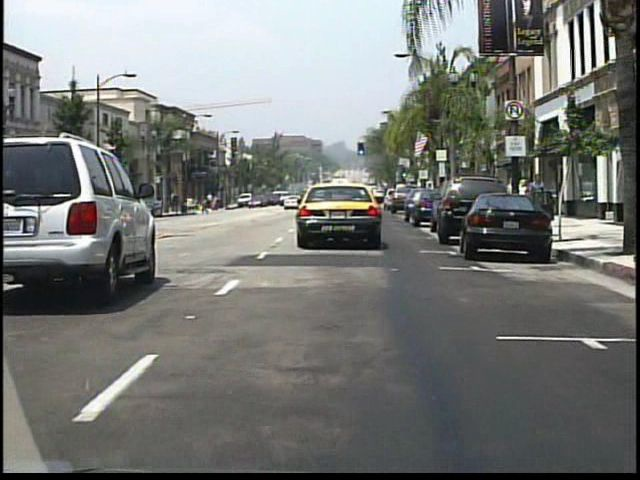person: (528, 171, 547, 223), (516, 179, 529, 216), (218, 194, 225, 211)
